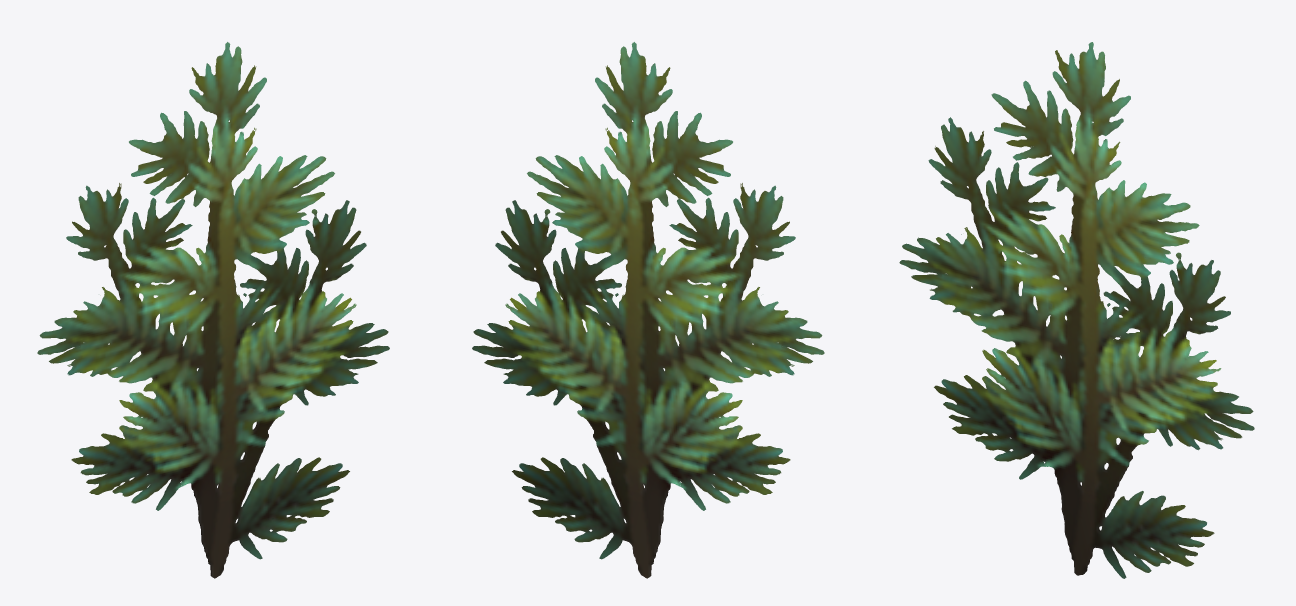
Rendered from HP3_pine1.fbx.
The picture shows the model from 3 angles, left to right: view 1: azimuth 30°, elevation 25°; view 2: azimuth 150°, elevation 25°; view 3: azimuth 330°, elevation 25°; orthographic projection.
Visible parts, largest first — view 1: HP3_pine1; view 2: HP3_pine1; view 3: HP3_pine1.
Boxes of the visible parts, x1,y1,x2,y2 form: HP3_pine1: (37, 42, 389, 578); HP3_pine1: (472, 42, 824, 578); HP3_pine1: (899, 42, 1254, 578).
Bounding box in the file's own units: 7.55 × 10.32 × 0.04.
